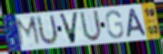A: (126, 7, 148, 39)
G: (105, 9, 125, 40)
M: (14, 15, 43, 49)
U: (79, 9, 104, 43), (36, 13, 60, 47)
V: (57, 11, 81, 45)
